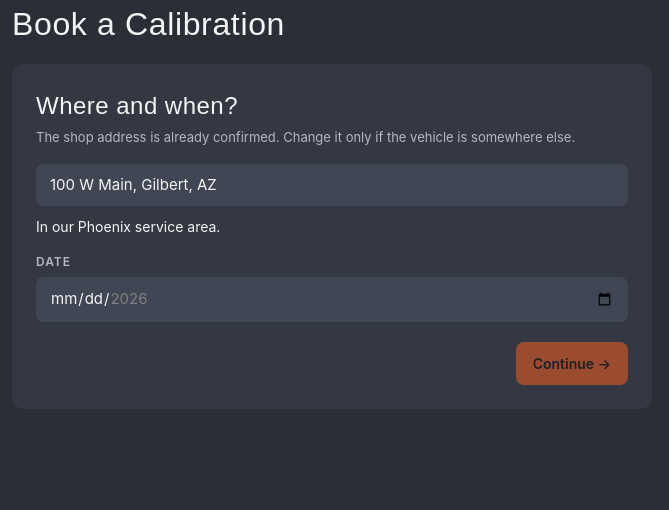
Scenario: picking a place reloads times when a date is already set
Type "2026-11-18" into the date field with test id "b-date".
click(332, 299); type("2026-11-18")  # box 36,277 -> 628,322
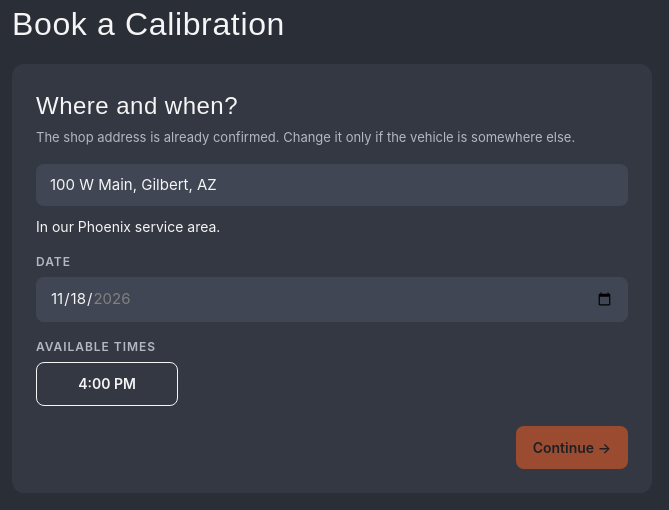
Expected: the button with test id "b-slot-2026-11-18T16:00:00Z" is shown, 36,362 -> 178,406
Replace the text in the field with test id "b-addr" with "200 Other" at (332, 185), box 36,164 -> 628,206
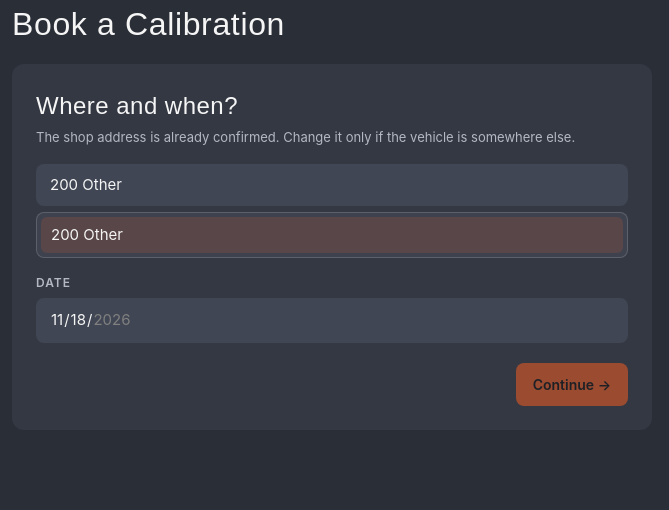
Click the option "200 Other".
click(87, 234)  # box 41,217 -> 623,253
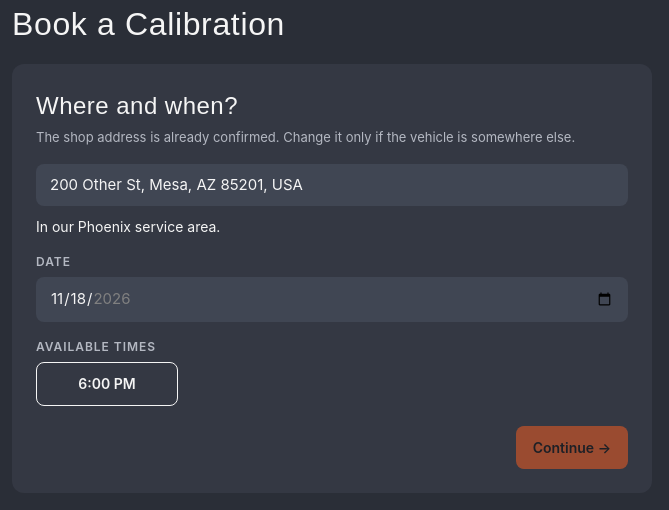
Expected: the button with test id "b-slot-2026-11-18T18:00:00Z" is shown, 36,362 -> 178,406
